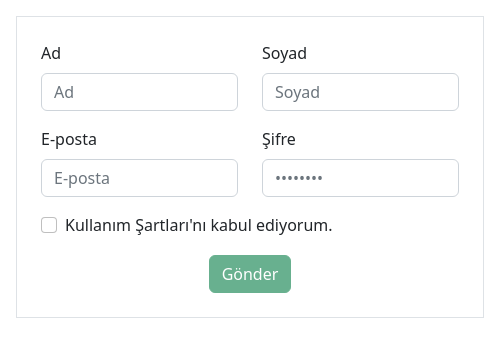
Form Testi › Kullanım koşulları girdisi hata kontrolü
Check the checkbox with test id "tos": (49, 225) [41,217,57,233]
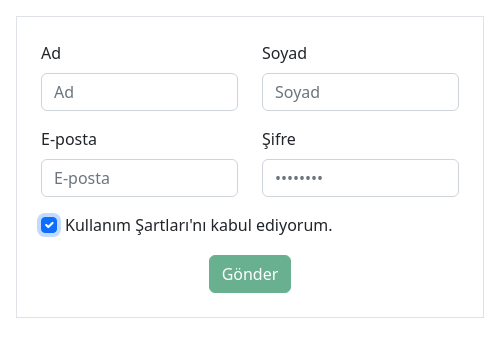
Check: the checkbox with test id "tos" is checked
Uncheck the checkbox with test id "tos": (49, 225) [41,217,57,233]
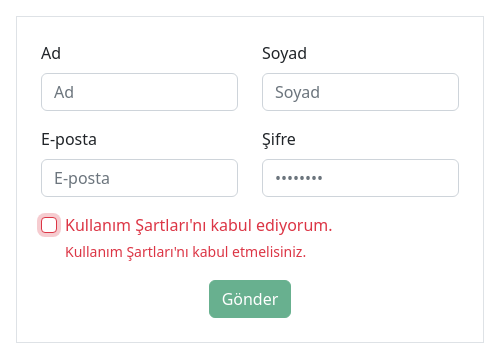
Check: the text "Kullanım Şartları'nı kabul etmelisiniz." is shown, box [65,242,306,261]
